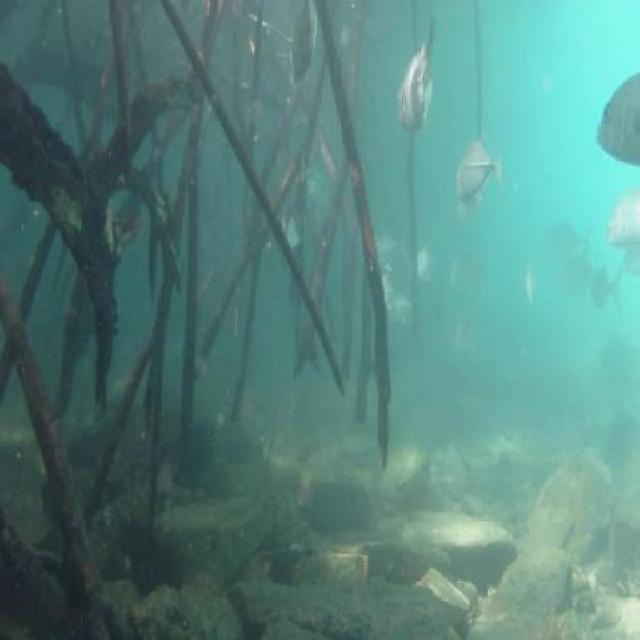Caranx_sexfasciatus_juvenile: (587, 68, 640, 174), (396, 21, 438, 147), (452, 140, 511, 211), (598, 180, 640, 260), (535, 212, 590, 271), (376, 260, 415, 343), (365, 208, 407, 284), (292, 145, 334, 218), (288, 0, 320, 91), (448, 308, 484, 388), (406, 222, 440, 304), (272, 187, 306, 265), (442, 246, 486, 305), (554, 243, 591, 306), (586, 261, 622, 325), (515, 246, 542, 319)
